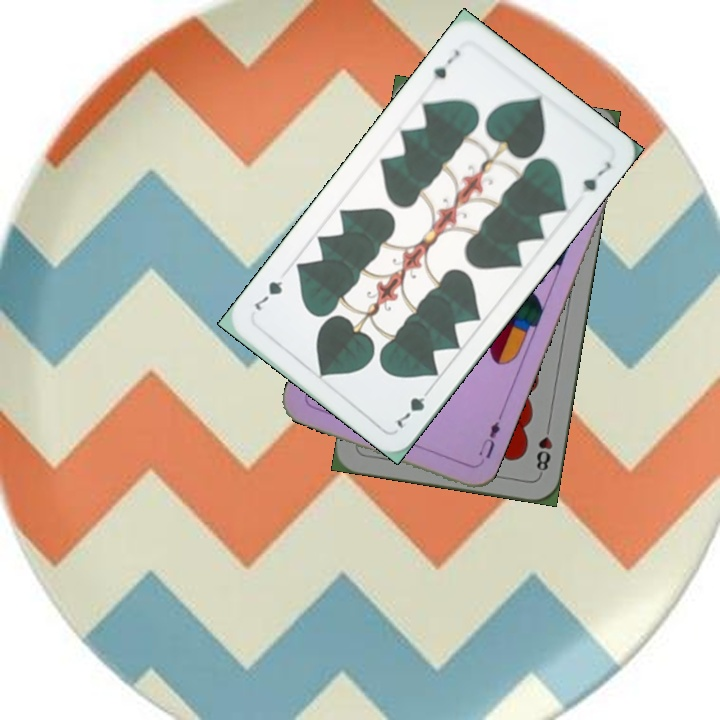EU: (472, 413, 503, 469)
G7: (392, 382, 435, 431), (429, 45, 463, 83)
H8: (532, 419, 555, 478)
